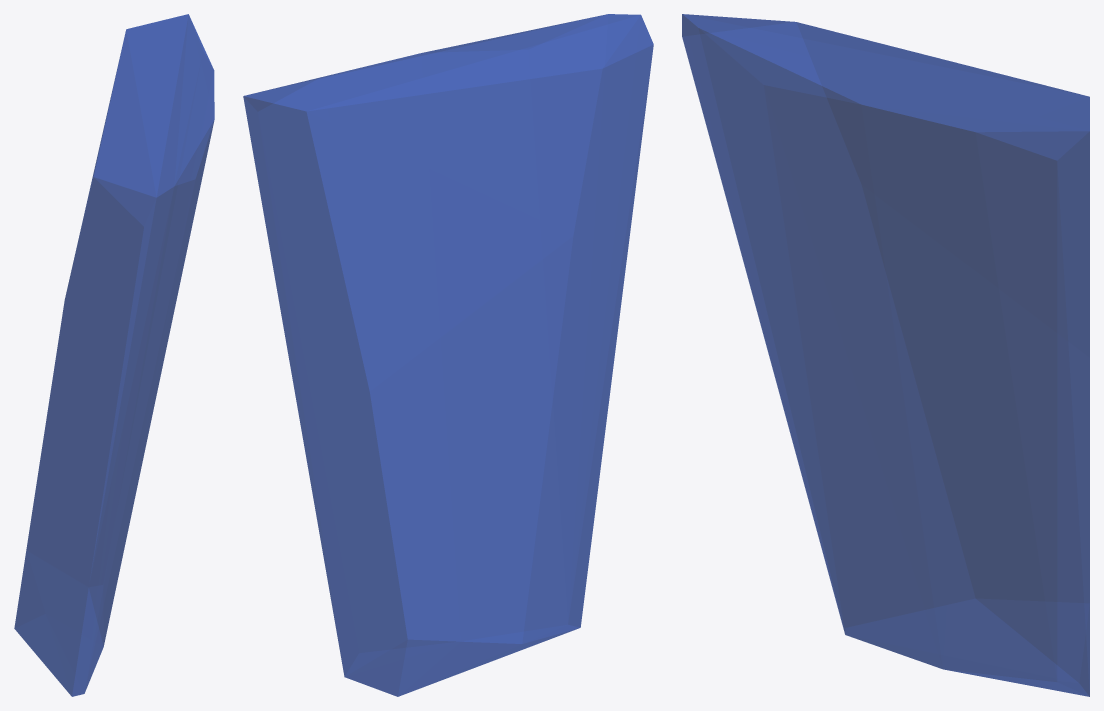
3 renders of one model, left to right at view 1: azimuth 30°, elevation 25°; view 2: azimuth 150°, elevation 25°; view 3: azimuth 270°, elevation 25°, orthographic. The views are drawn at different scales.
Parts seen in each view (by area): view 1: Shape_IndexedFaceSet.019_Shape_IndexedFaceSet.8991; view 2: Shape_IndexedFaceSet.019_Shape_IndexedFaceSet.8991; view 3: Shape_IndexedFaceSet.019_Shape_IndexedFaceSet.8991.
Boxes of the visible parts, x1=… form: Shape_IndexedFaceSet.019_Shape_IndexedFaceSet.8991: x1=14, y1=14, x2=214, y2=696; Shape_IndexedFaceSet.019_Shape_IndexedFaceSet.8991: x1=243, y1=14, x2=653, y2=696; Shape_IndexedFaceSet.019_Shape_IndexedFaceSet.8991: x1=682, y1=14, x2=1089, y2=696.
Bounding box in the file's own units: 0.112 × 0.2667 × 0.1556.
